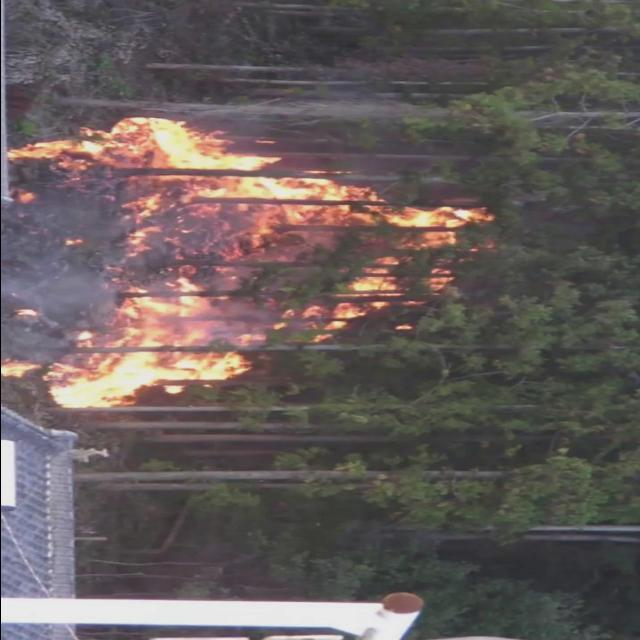Fire: (7, 118, 497, 230), (43, 271, 265, 409), (273, 233, 487, 343), (124, 226, 160, 257), (0, 360, 40, 380)
